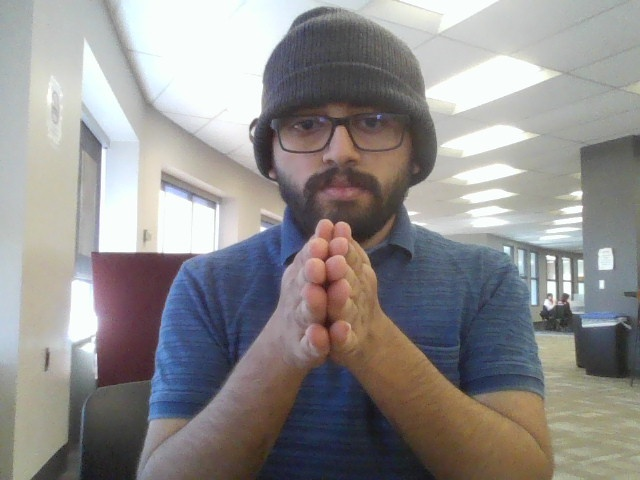start: (271, 213, 391, 388)
